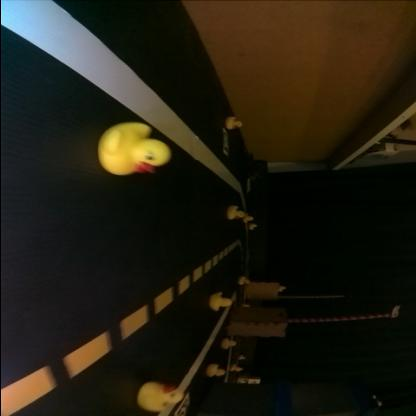Duckie: (102, 125, 168, 175), (139, 384, 182, 413), (209, 292, 232, 310), (206, 366, 224, 378), (227, 206, 243, 219), (225, 118, 242, 130), (221, 342, 236, 350), (238, 278, 250, 286), (244, 217, 252, 223), (279, 286, 285, 292), (249, 226, 257, 230)
QR code: (222, 132, 230, 154)
